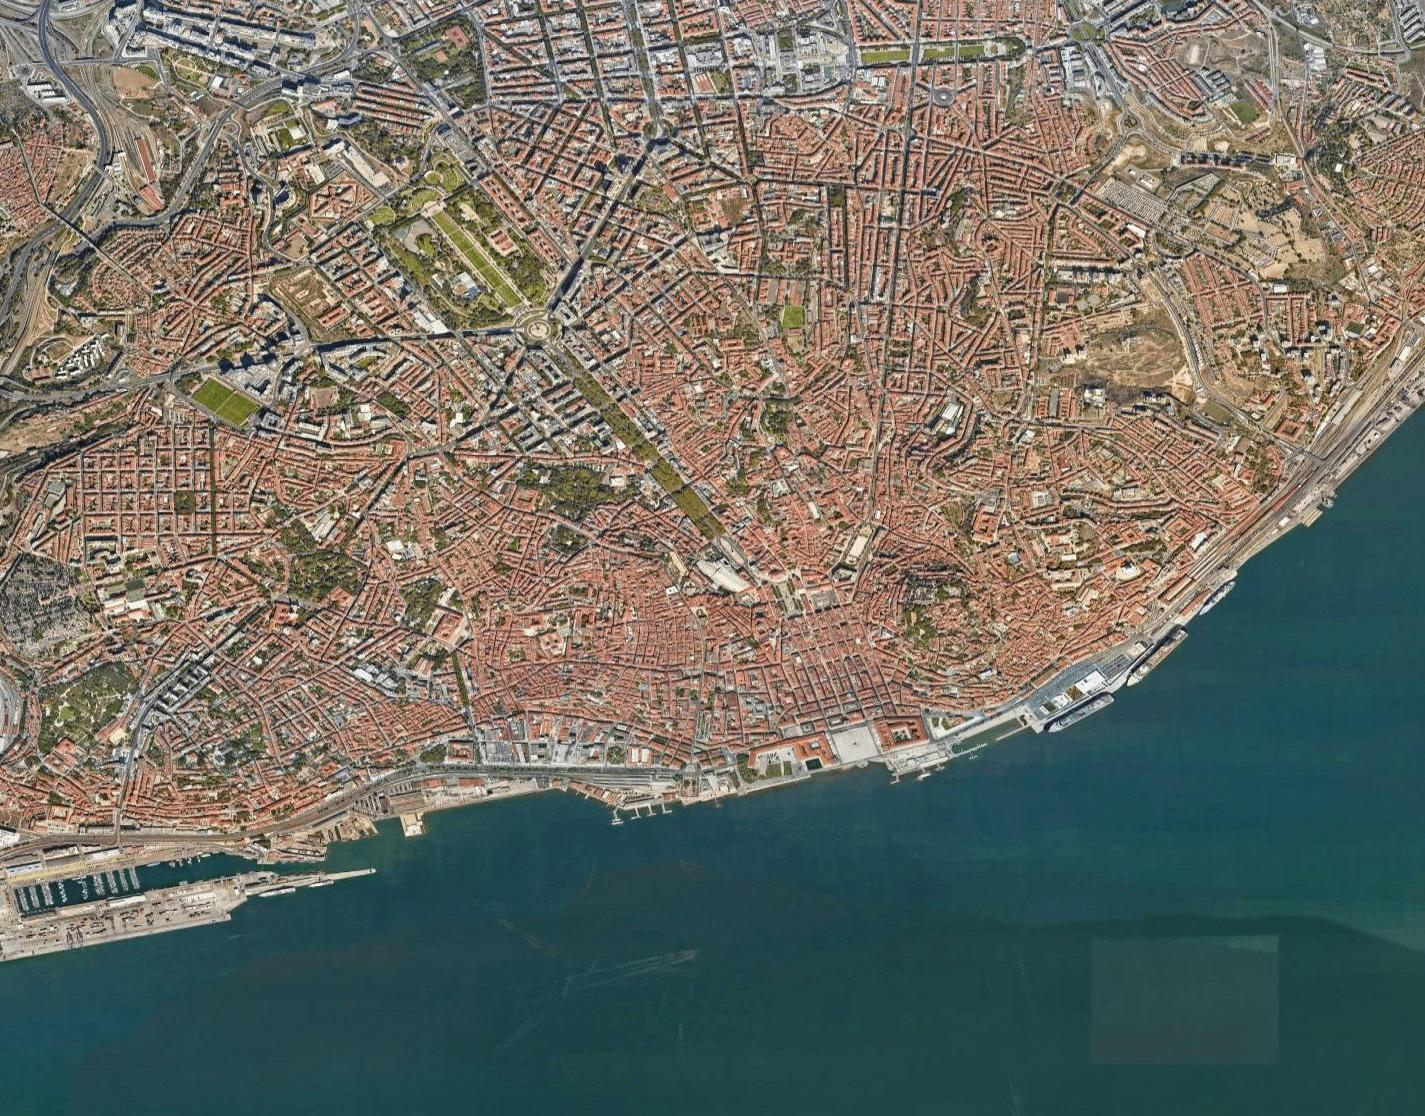harbor: (1, 729, 719, 963), (883, 631, 1180, 800)
motorway: (1, 212, 64, 320), (68, 135, 125, 219), (56, 72, 110, 138), (34, 1, 65, 72)
train_station: (693, 546, 753, 599)
